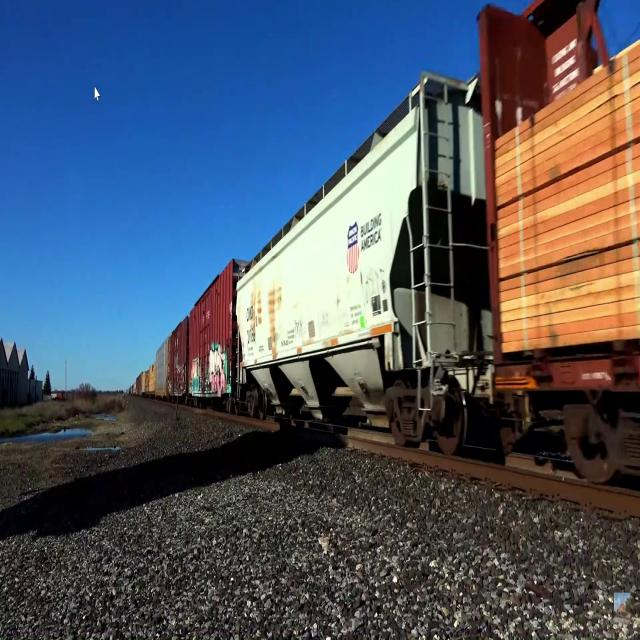autorack: (155, 334, 168, 402)
boxcar: (188, 256, 246, 414), (168, 312, 189, 404)
cargo: (494, 37, 640, 358)
flatcar_bulkhead: (473, 0, 640, 493)
hopper: (234, 62, 476, 448)
